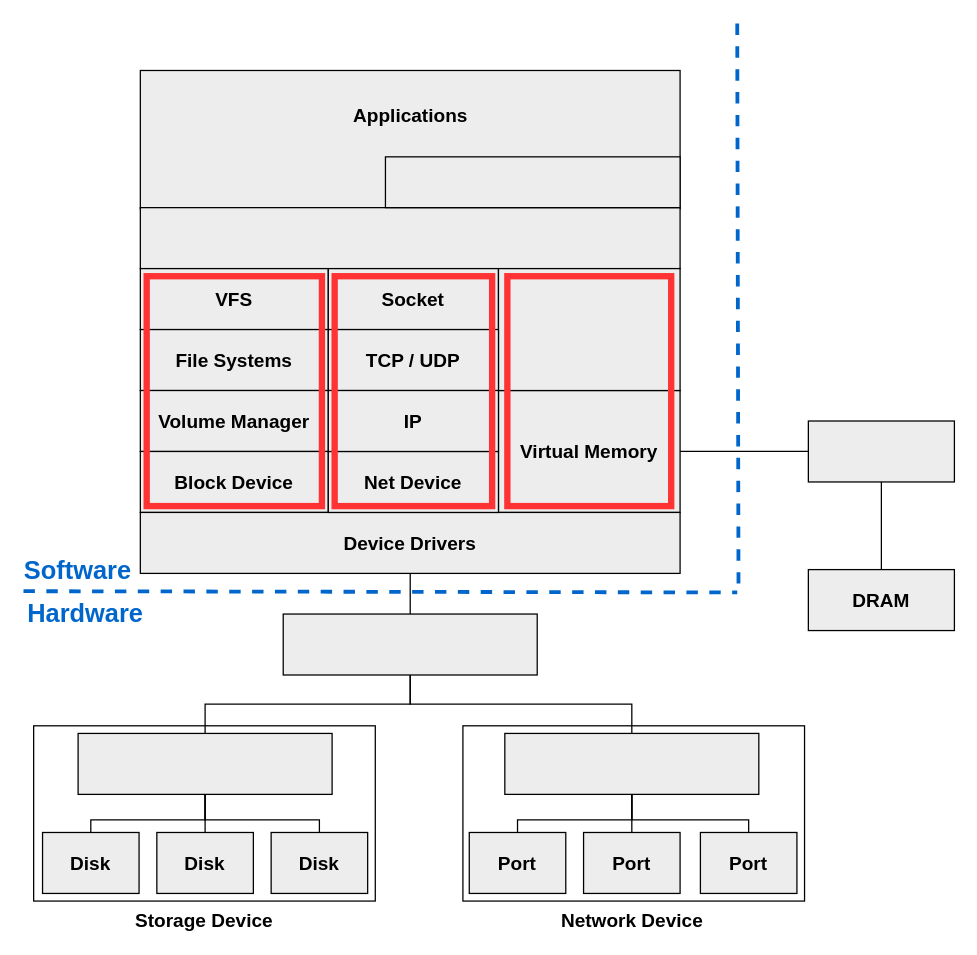
Image size: 977x955. Some labels were removed from this diagram. Each missing label, with the centre of its shape:
CPU: the point at 880,451
I/O Bridge: the point at 409,644
I/O Controller: the point at 204,763
Network Controller: the point at 631,763
Scheduler: the point at 588,329
System Call Interface: the point at 409,237
System Libraries: the point at 532,182
